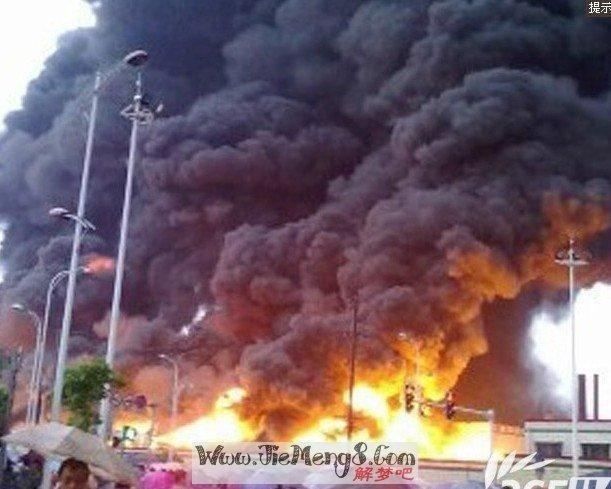fire: (296, 364, 486, 457), (147, 390, 257, 446)
